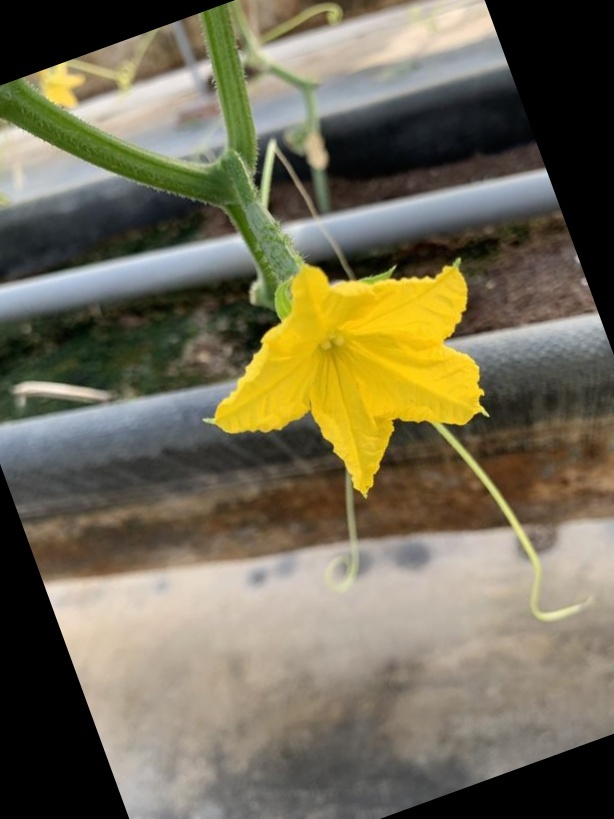flowering: (209, 207, 489, 524)
